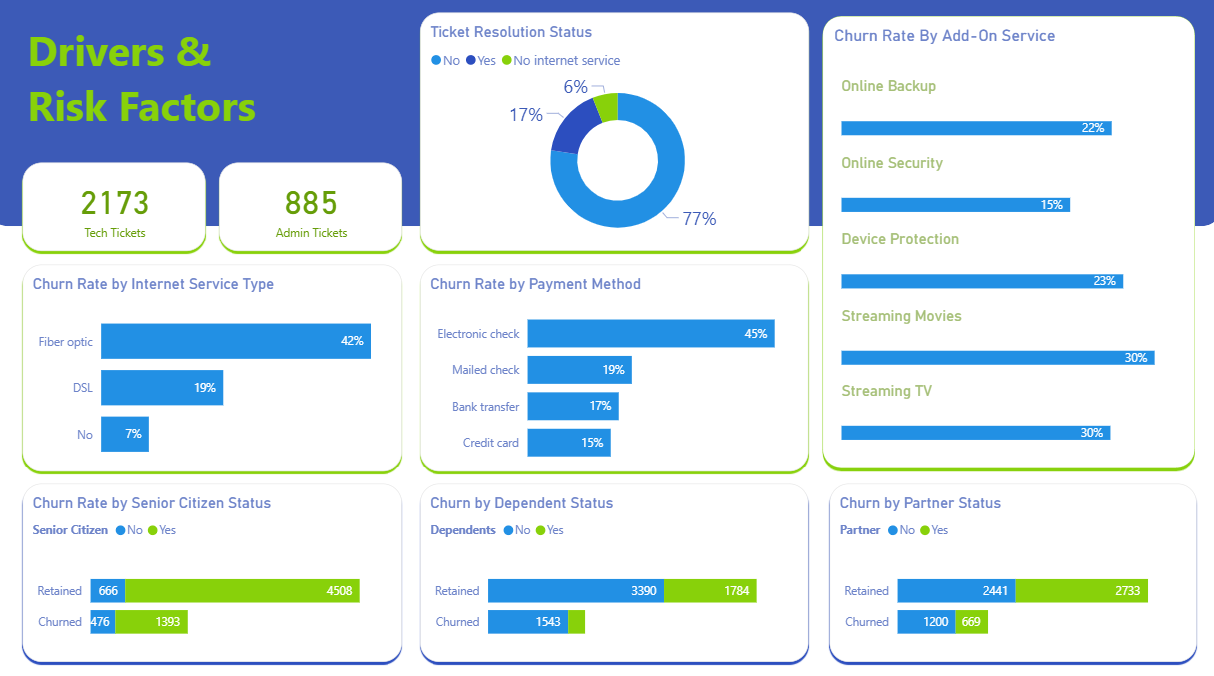

The page's visual inventory and layout, read from the dashboard file:
{"tool":"powerbi","page":{"name":"customer analysis","canvas":[1280,720],"ordinal":1},"visuals":[{"type":"barChart","title":"Online Backup","fields":{"Y":["01 Churn-Dataset.Churn Rate"],"Category":["01 Churn-Dataset.OnlineBackup"]},"box":[886.8,90.6,345.7,74.8],"z":0,"group":"g1"},{"type":"shape","box":[0,0,1280.6,245.2],"z":0},{"type":"shape","box":[862.8,23.4,394,476.5],"z":1000},{"type":"barChart","title":"Online Security","fields":{"Y":["01 Churn-Dataset.Churn Rate"],"Category":["01 Churn-Dataset.OnlineSecurity"]},"box":[886.8,169.6,345,75],"z":1000,"group":"g1"},{"type":"barChart","title":"Device Protection","fields":{"Y":["01 Churn-Dataset.Churn Rate"],"Category":["01 Churn-Dataset.DeviceProtection"]},"box":[886.8,248.9,345,75],"z":2000,"group":"g1"},{"type":"clusteredBarChart","title":"Churn Rate by Internet Service Type","fields":{"Category":["01 Churn-Dataset.InternetService"],"Y":["01 Churn-Dataset.Churn Rate"]},"box":[35.8,285,394,214.9],"z":2000},{"type":"donutChart","title":"Ticket Resolution Status","fields":{"Y":["01 Churn-Dataset.Churned Customers"],"Category":["01 Churn-Dataset.TechSupport"]},"box":[448.5,23.4,404,247.6],"z":3000},{"type":"barChart","title":"Streaming Movies","fields":{"Y":["01 Churn-Dataset.Churn Rate"],"Category":["01 Churn-Dataset.StreamingMovies"]},"box":[886.8,328.1,345.7,74.8],"z":3000,"group":"g1"},{"type":"clusteredBarChart","title":"Churn Rate by Payment Method","fields":{"Category":["01 Churn-Dataset.PaymentMethod"],"Y":["01 Churn-Dataset.Churn Rate"]},"box":[448.5,285,403.3,214.9],"z":4000},{"type":"barChart","title":"Streaming TV","fields":{"Y":["01 Churn-Dataset.Churn Rate"],"Category":["01 Churn-Dataset.StreamingTV"]},"box":[886.8,407.1,345,75],"z":4000,"group":"g1"},{"type":"card","fields":{"Values":["01 Churn-Dataset.Tech Tickets"]},"box":[35.8,179.1,190,91.9],"z":5000},{"type":"card","fields":{"Values":["01 Churn-Dataset.Admin Tickets"]},"box":[240.3,178.7,190,92],"z":6000},{"type":"group","id":"g1","title":"Group 1","box":[886.8,90.6,345.7,391.5],"z":8000},{"type":"barChart","title":"Churn Rate by Senior Citizen Status","fields":{"Series":["01 Churn-Dataset.Senior Citizen"],"Category":["01 Churn-Dataset.churn status"],"Y":["01 Churn-Dataset.Total Customers"]},"box":[35.8,512.4,394,185.3],"z":9000},{"type":"barChart","title":"Churn by Dependent Status","fields":{"Y":["01 Churn-Dataset.Total Customers"],"Category":["01 Churn-Dataset.churn status"],"Series":["01 Churn-Dataset.Dependents"]},"box":[448.5,512.4,403.3,185.3],"z":10000},{"type":"barChart","title":"Churn by Partner Status","fields":{"Y":["01 Churn-Dataset.Total Customers"],"Category":["01 Churn-Dataset.churn status"],"Series":["01 Churn-Dataset.Partner"]},"box":[873.7,512.4,381.5,185.3],"z":11000},{"type":"textbox","box":[35.8,28,350.4,137],"z":12000},{"type":"textbox","box":[873.7,31,300.6,40.5],"z":13000}]}

Visuals, with their boxes in screenshot pixels (x1, y1, x2, y2), scaled from the page's 1280x720 canvas onto the 1214x676 screenshot:
"Online Backup" barChart: rect(841, 85, 1169, 155)
shape: rect(0, 0, 1213, 230)
shape: rect(818, 22, 1192, 469)
"Online Security" barChart: rect(841, 159, 1168, 230)
"Device Protection" barChart: rect(841, 234, 1168, 304)
"Churn Rate by Internet Service Type" clusteredBarChart: rect(34, 268, 408, 469)
"Ticket Resolution Status" donutChart: rect(425, 22, 809, 254)
"Streaming Movies" barChart: rect(841, 308, 1169, 378)
"Churn Rate by Payment Method" clusteredBarChart: rect(425, 268, 808, 469)
"Streaming TV" barChart: rect(841, 382, 1168, 453)
card - 01 Churn-Dataset.Tech Tickets: rect(34, 168, 214, 254)
card - 01 Churn-Dataset.Admin Tickets: rect(228, 168, 408, 254)
"Group 1" group: rect(841, 85, 1169, 453)
"Churn Rate by Senior Citizen Status" barChart: rect(34, 481, 408, 655)
"Churn by Dependent Status" barChart: rect(425, 481, 808, 655)
"Churn by Partner Status" barChart: rect(829, 481, 1190, 655)
textbox: rect(34, 26, 366, 155)
textbox: rect(829, 29, 1114, 67)
